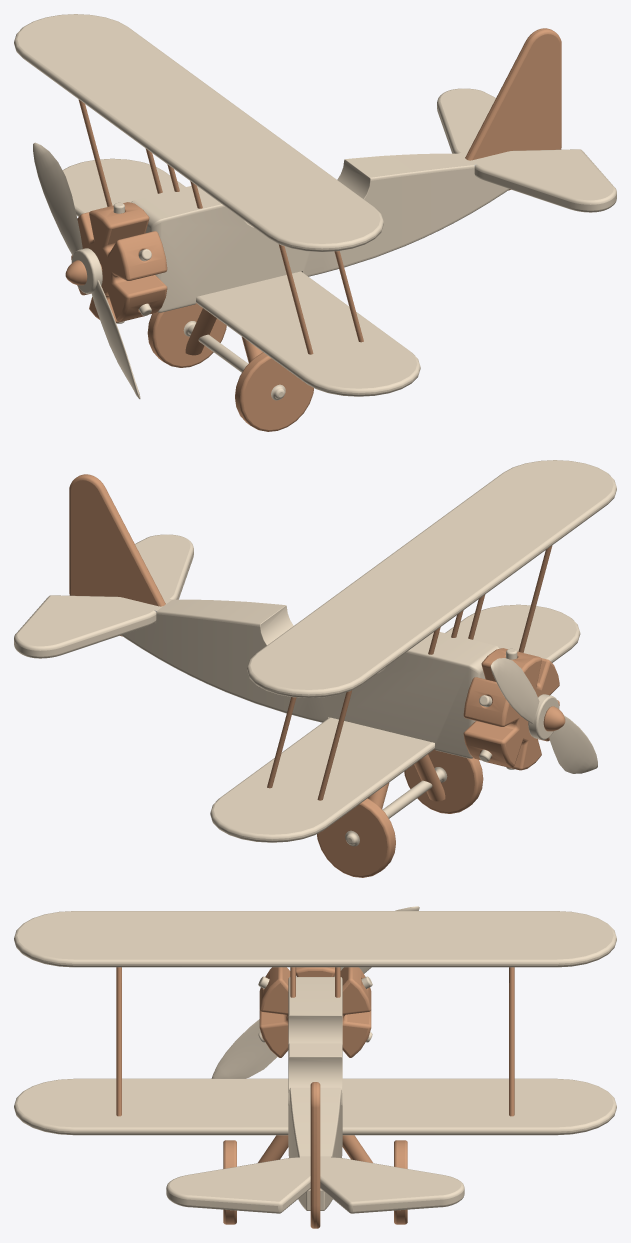
File: toyplane.fbx
The picture shows the model from 3 angles, top to bottom: view 1: azimuth 30°, elevation 25°; view 2: azimuth 150°, elevation 25°; view 3: azimuth 270°, elevation 25°; orthographic projection. The views are drawn at different scales.
Parts seen in each view (by area): view 1: avion.002, avion.001, avion.003; view 2: avion.002, avion.001, avion.003; view 3: avion.002, avion.001, avion.003.
Part boxes in pixels (<box>): avion.002: <box>14,14,616,400</box>; avion.001: <box>65,28,561,431</box>; avion.003: <box>33,142,140,399</box>; avion.002: <box>14,460,616,846</box>; avion.001: <box>69,474,565,877</box>; avion.003: <box>490,658,597,773</box>; avion.002: <box>14,911,616,1213</box>; avion.001: <box>116,967,514,1228</box>; avion.003: <box>211,906,419,1078</box>.
Size of the model in its own units: 81.95 by 45.81 by 87.72.
